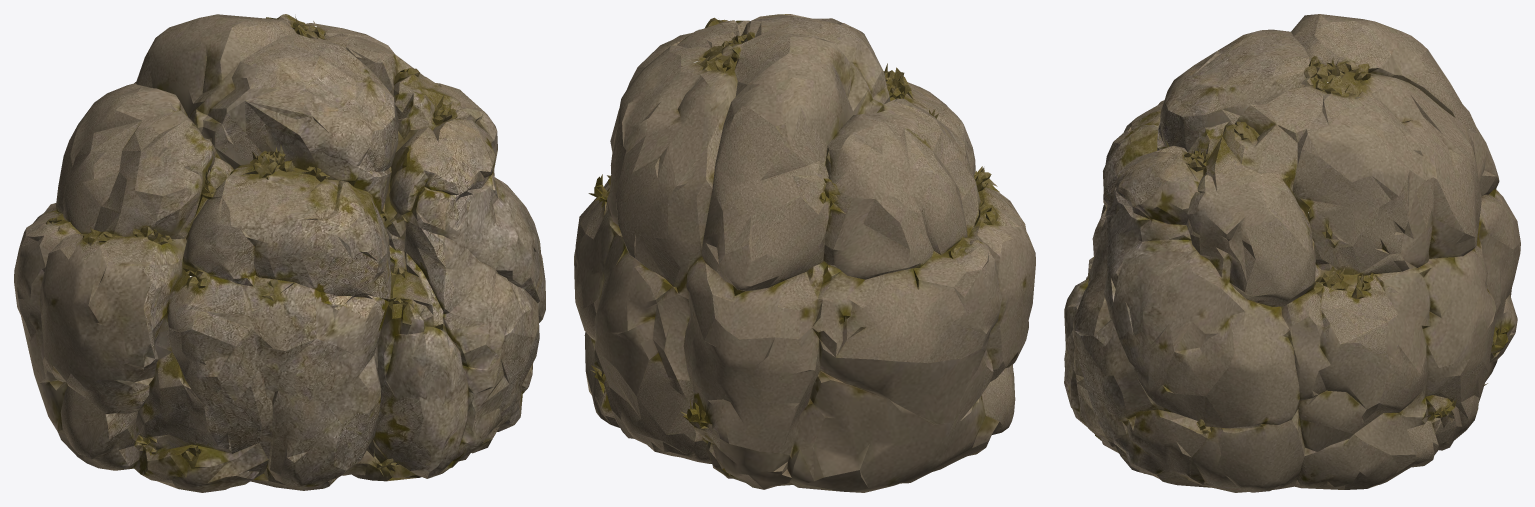
Rendered from risco_grietas_alto.glb.
3 renders of one model, left to right at view 1: azimuth 30°, elevation 25°; view 2: azimuth 150°, elevation 25°; view 3: azimuth 270°, elevation 25°, orthographic. The views are drawn at different scales.
Visible parts, largest first — view 1: alto; view 2: alto; view 3: alto.
Boxes of the visible parts, x1,y1,x2,y2 form: alto: (14, 14, 545, 492); alto: (574, 14, 1035, 492); alto: (1064, 14, 1520, 492).
Size of the model in its own units: 4.73 by 4 by 4.29.
Materials: 1 (1 with a texture image).
